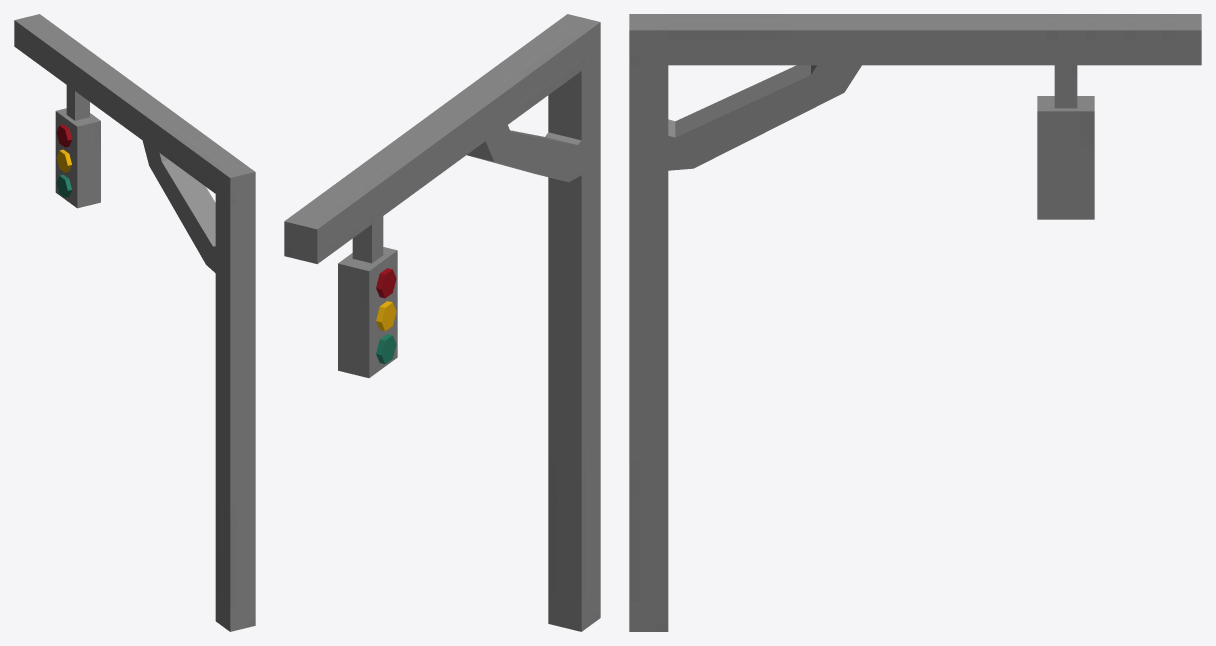
The model's file is traffic_lights.fbx.
3 renders of one model, left to right at view 1: azimuth 30°, elevation 25°; view 2: azimuth 150°, elevation 25°; view 3: azimuth 270°, elevation 25°, orthographic. The views are drawn at different scales.
Visible parts, largest first — view 1: Cylinder; view 2: Cylinder; view 3: Cylinder.
Boxes of the visible parts, bbox=[...] form: Cylinder: bbox=[14, 14, 255, 631]; Cylinder: bbox=[284, 14, 600, 631]; Cylinder: bbox=[629, 14, 1201, 631].
Size of the model in its own units: 39.73 by 600 by 517.
